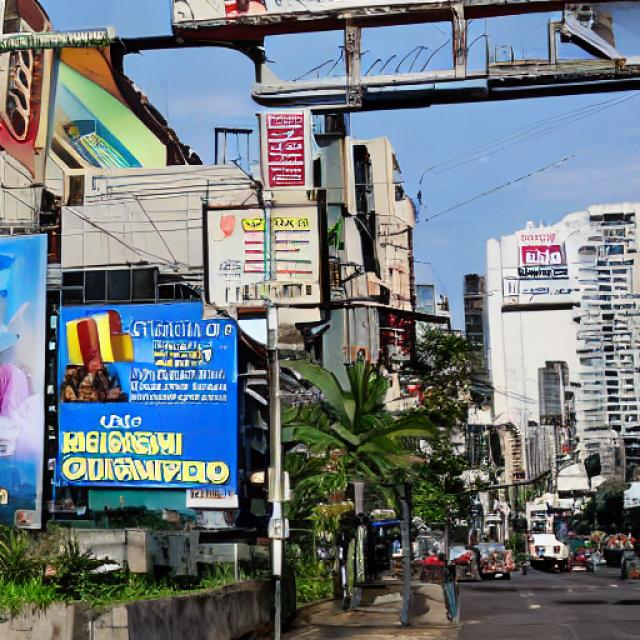Billboard: (55, 306, 240, 493)
